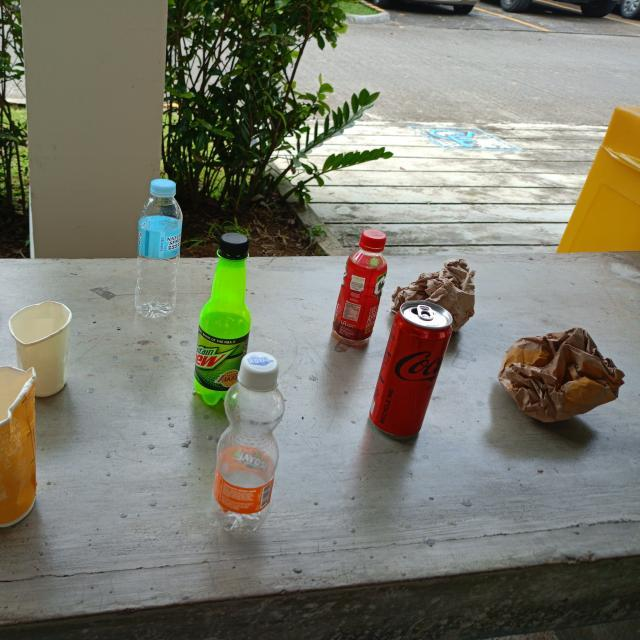recyclable waste: (204, 342, 292, 540), (491, 320, 632, 432), (364, 295, 462, 449), (184, 228, 262, 410), (326, 224, 396, 352), (130, 170, 187, 325), (2, 294, 81, 402), (384, 254, 482, 338), (0, 357, 41, 533)
